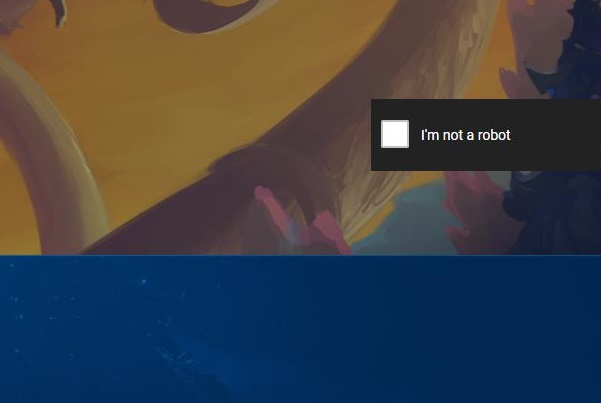captcha: (381, 119, 513, 148)
